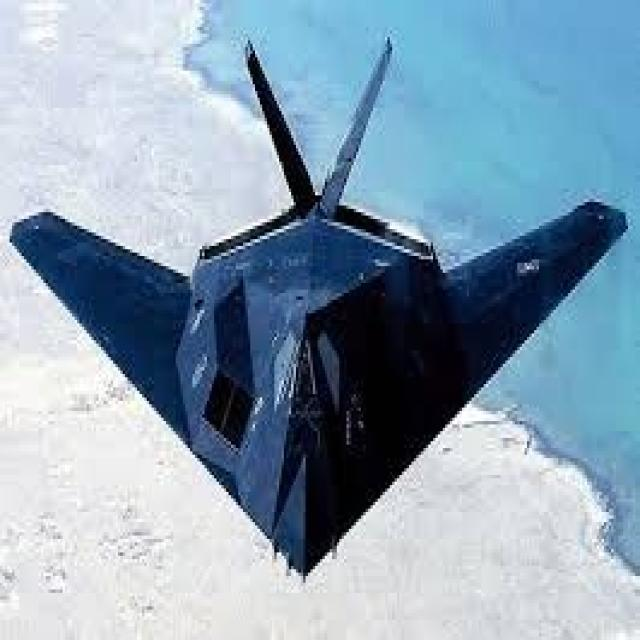F117: (0, 31, 640, 607)
